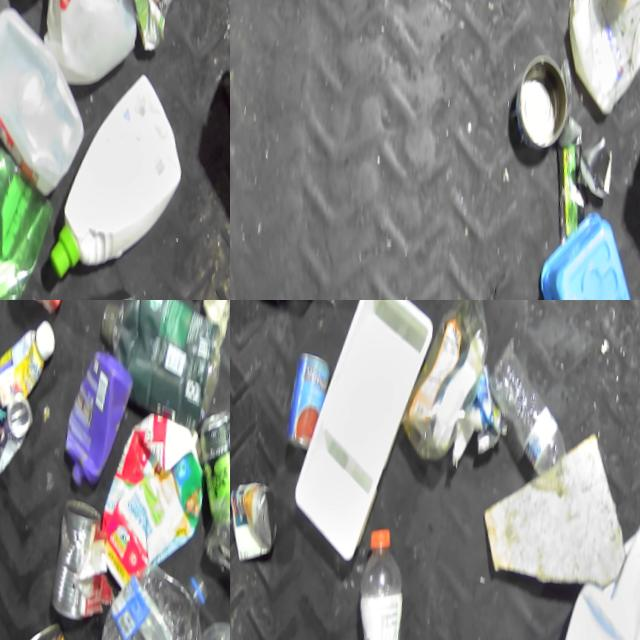can: (498, 56, 574, 166), (38, 495, 100, 619), (269, 345, 335, 460), (180, 402, 230, 515), (230, 469, 277, 566), (0, 385, 36, 474), (0, 613, 62, 640)
milk_jug: (523, 513, 640, 640), (0, 7, 84, 183), (551, 0, 640, 123), (39, 0, 144, 86)
non_white_jug: (85, 300, 223, 415), (53, 348, 128, 481)
plastic_bottle: (384, 300, 503, 479), (471, 337, 589, 500), (327, 522, 420, 640), (85, 552, 204, 640)
